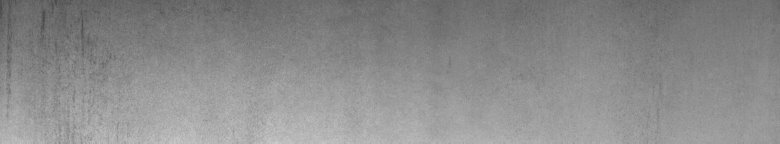ka: (7, 4, 116, 77)
